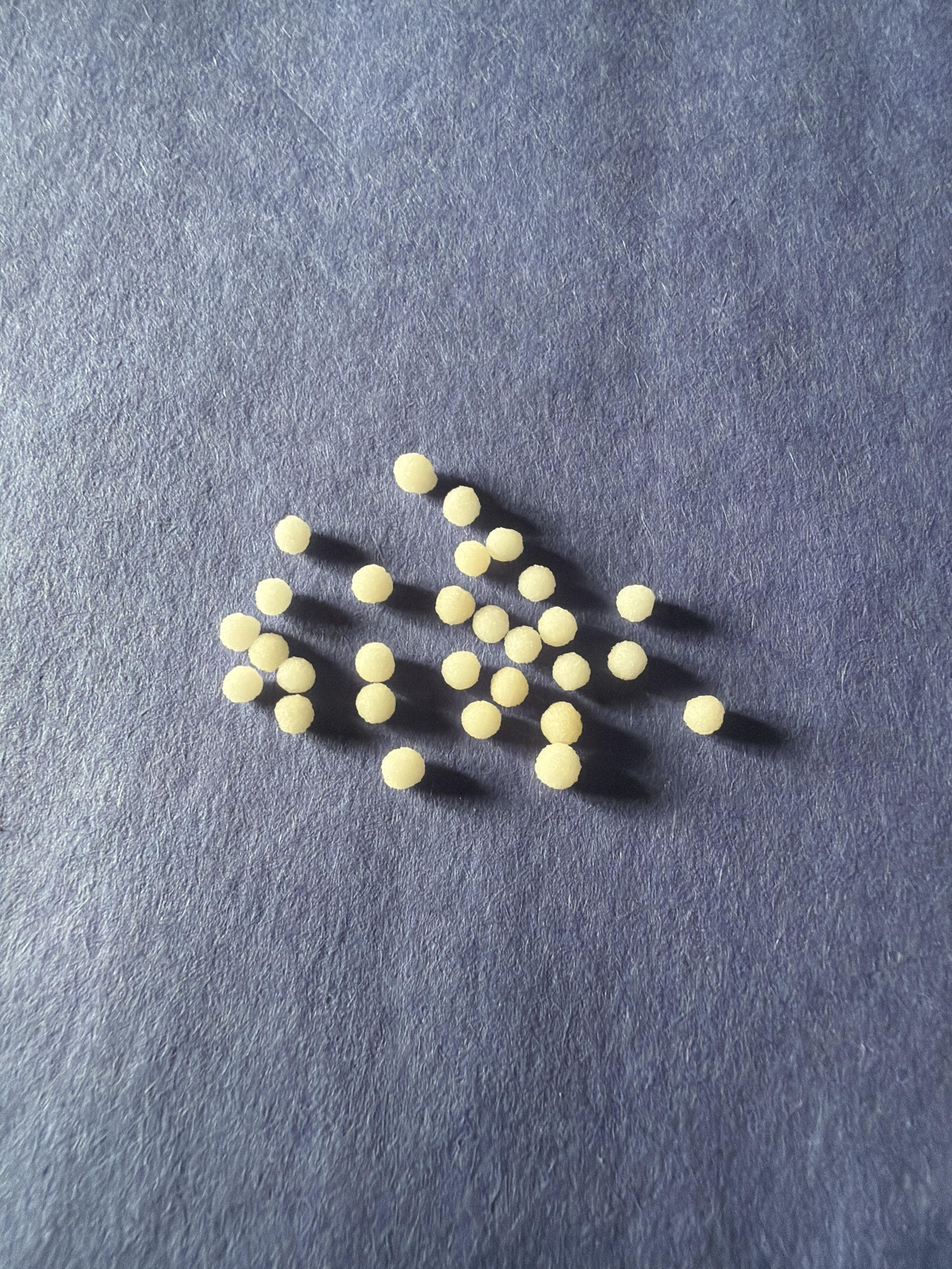pill: (535, 742, 581, 789), (381, 747, 425, 789), (393, 453, 437, 494), (540, 702, 582, 744), (355, 642, 395, 683), (247, 633, 289, 672), (537, 606, 577, 646), (274, 694, 314, 734), (352, 564, 393, 603), (356, 683, 395, 724), (683, 695, 724, 734), (607, 641, 647, 680), (435, 586, 475, 625), (490, 667, 528, 708), (219, 613, 260, 651), (441, 651, 480, 690), (461, 701, 501, 739), (443, 486, 480, 527), (222, 666, 263, 702), (552, 652, 590, 690), (274, 515, 311, 554), (276, 657, 315, 693), (616, 586, 655, 622), (504, 626, 541, 663), (518, 565, 555, 602), (454, 540, 491, 577), (255, 578, 292, 615), (473, 605, 509, 643), (486, 527, 523, 562)
